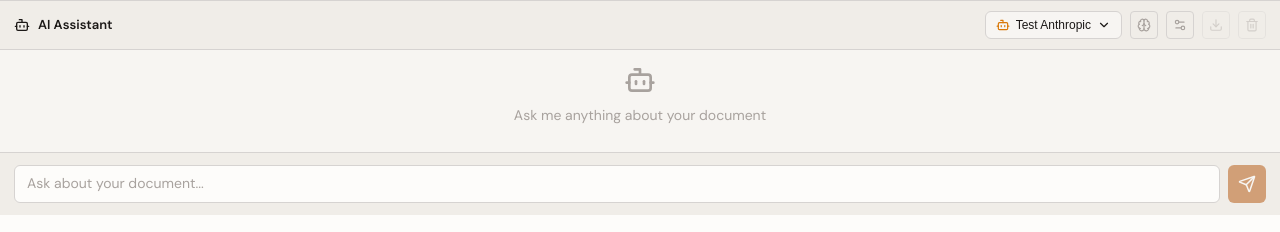
Test: AIChat › Settings › shows settings panel when settings button is clicked
Click the button titled "chat settings": coordinates (1180, 25) 1166,11 -> 1194,39
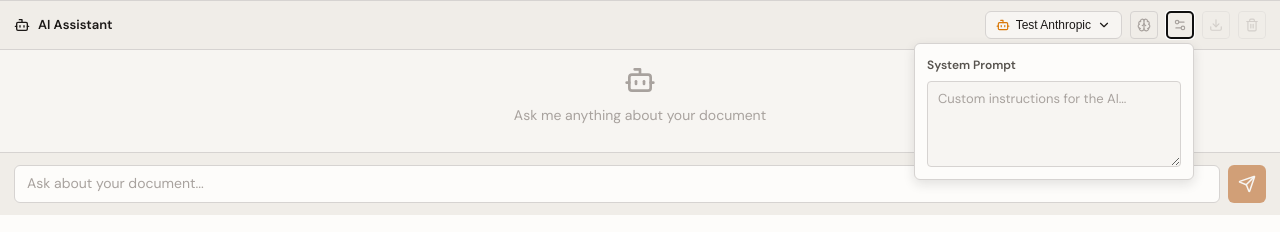
Result: the text "System Prompt" is shown at 927,57 -> 1016,73
